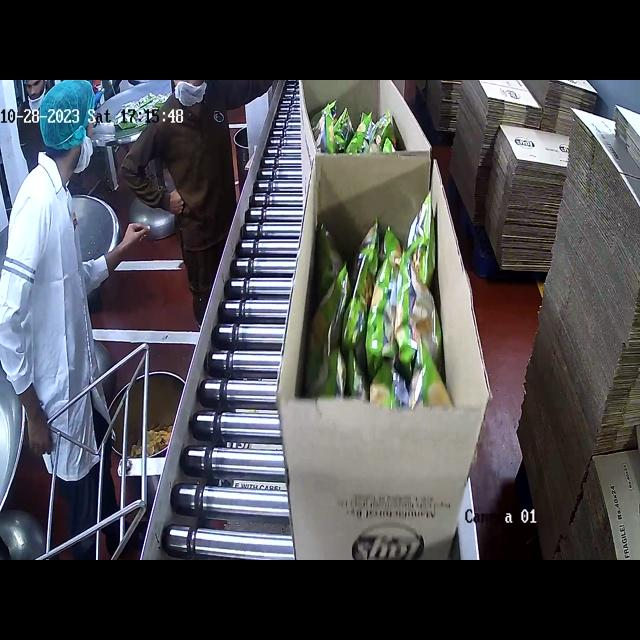yogurt: (290, 210, 456, 411), (300, 100, 376, 157)
